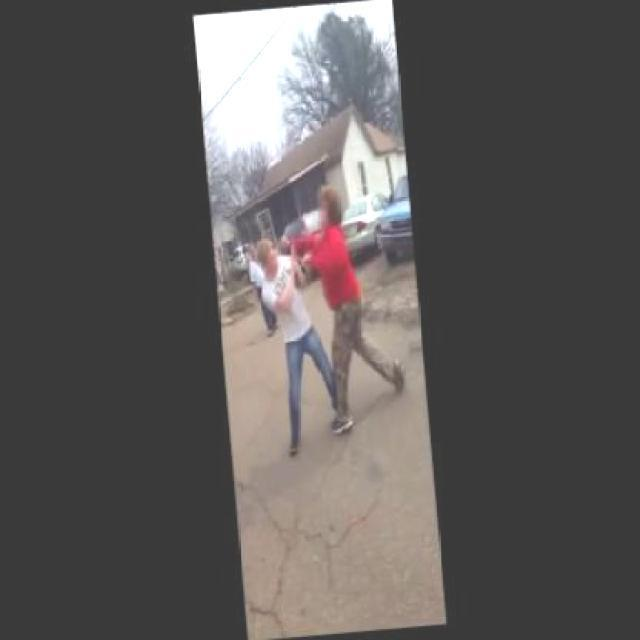fight: (253, 187, 364, 367)
